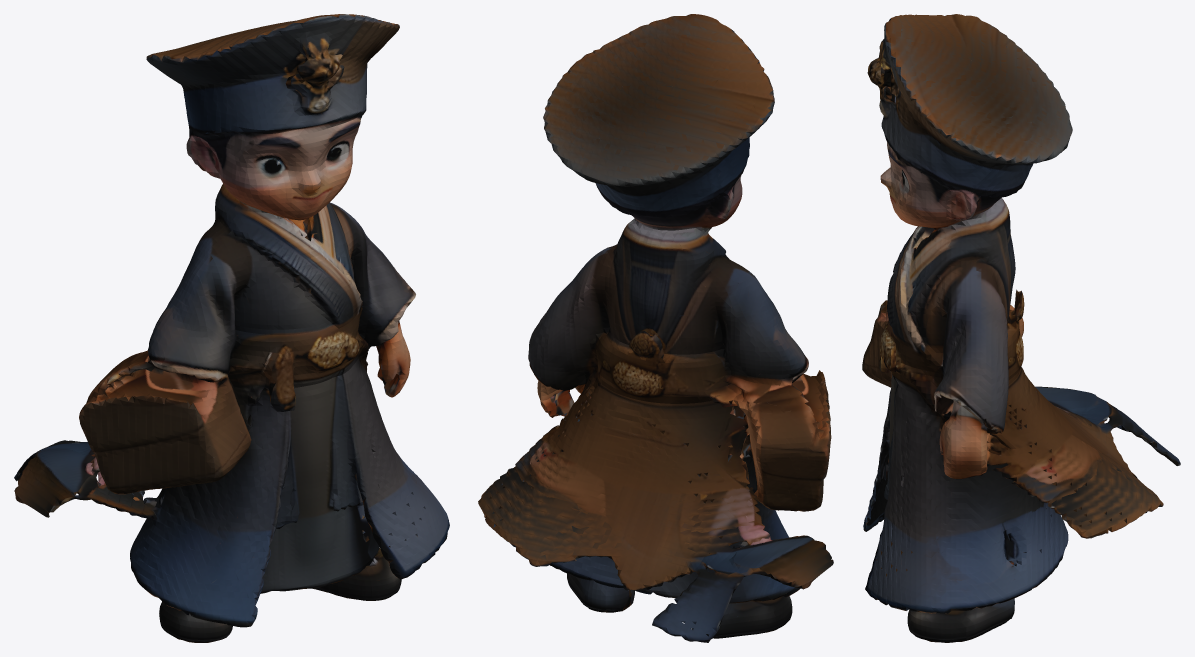
The model's file is body.glb.
The picture shows the model from 3 angles, left to right: view 1: azimuth 30°, elevation 25°; view 2: azimuth 150°, elevation 25°; view 3: azimuth 270°, elevation 25°; orthographic projection. The views are drawn at different scales.
Parts seen in each view (by area): view 1: geometry_0; view 2: geometry_0; view 3: geometry_0.
Part boxes in pixels (x1,y1,x2,y2): geometry_0: [14, 14, 449, 642]; geometry_0: [478, 14, 833, 642]; geometry_0: [862, 14, 1180, 642].
Bounding box in the file's own units: 1.22 × 1.96 × 0.9944.
1 material, 1 textured.
